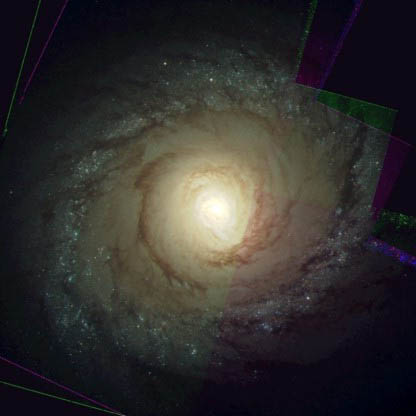Messier 94: (36, 38, 380, 379)
